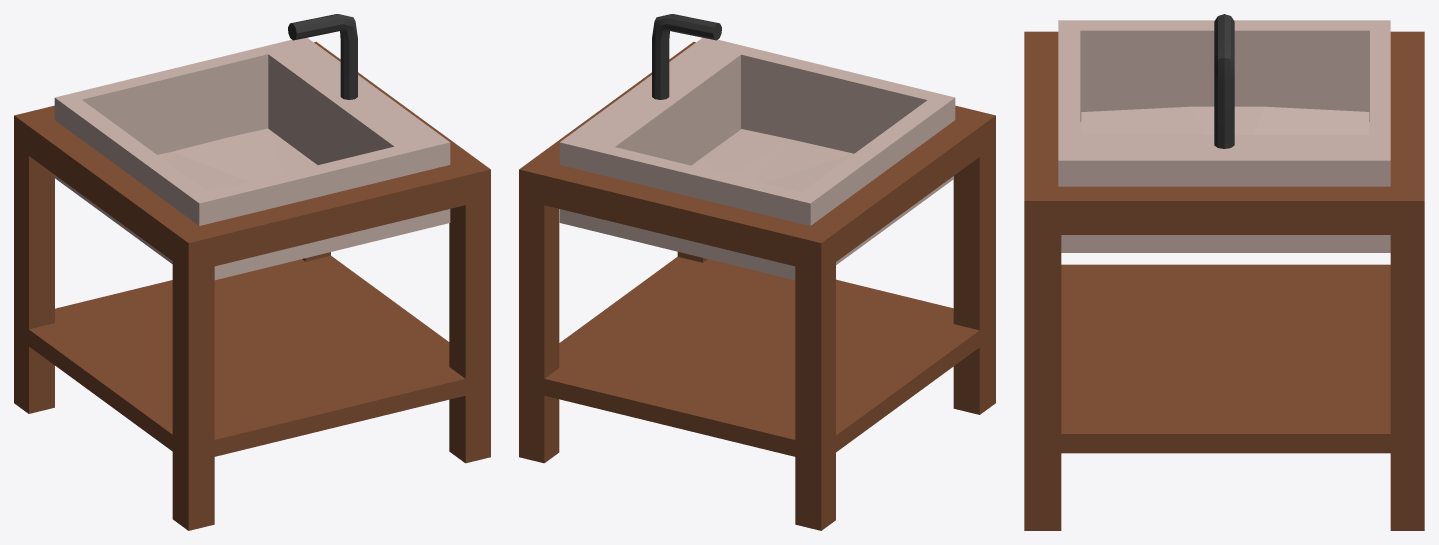
Rendered from EvierLavabo.fbx.
3 views of the same model, side by side, from view 1: azimuth 30°, elevation 25°; view 2: azimuth 150°, elevation 25°; view 3: azimuth 270°, elevation 25° (orthographic). The views are drawn at different scales.
Visible parts, largest first — view 1: pCube3; view 2: pCube3; view 3: pCube3.
Part boxes in pixels (left/top/right/bottom): pCube3: left=14, top=14, right=490, bottom=530; pCube3: left=519, top=14, right=995, bottom=530; pCube3: left=1024, top=14, right=1424, bottom=530.
Size of the model in its own units: 4.68 by 5.87 by 4.68.
